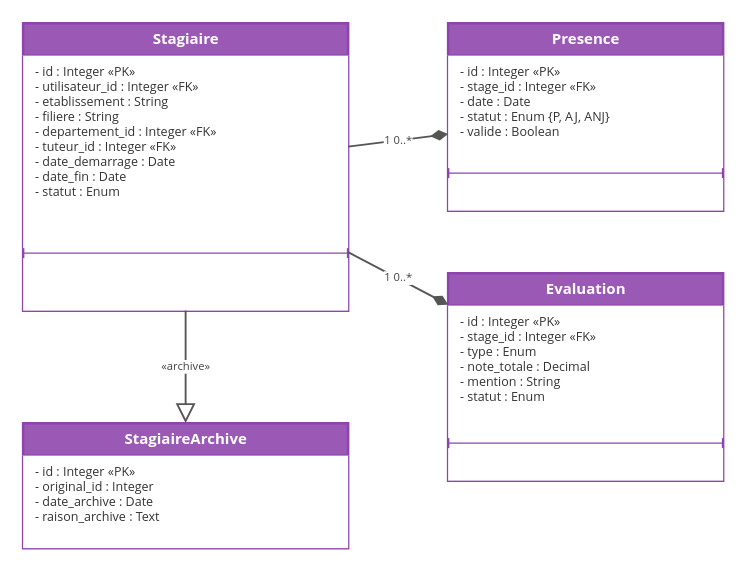
The diagram is 745 pixels wide and 573 high, and some of its shapes have lost their labels. Here are the shapes that lost their labels. From the top down, the centre of each, then its label:
the point at 585,194: + valider() : void
the point at 185,284: + archiver() : void + terminer() : void
the point at 585,464: + calculerNote() : Object
